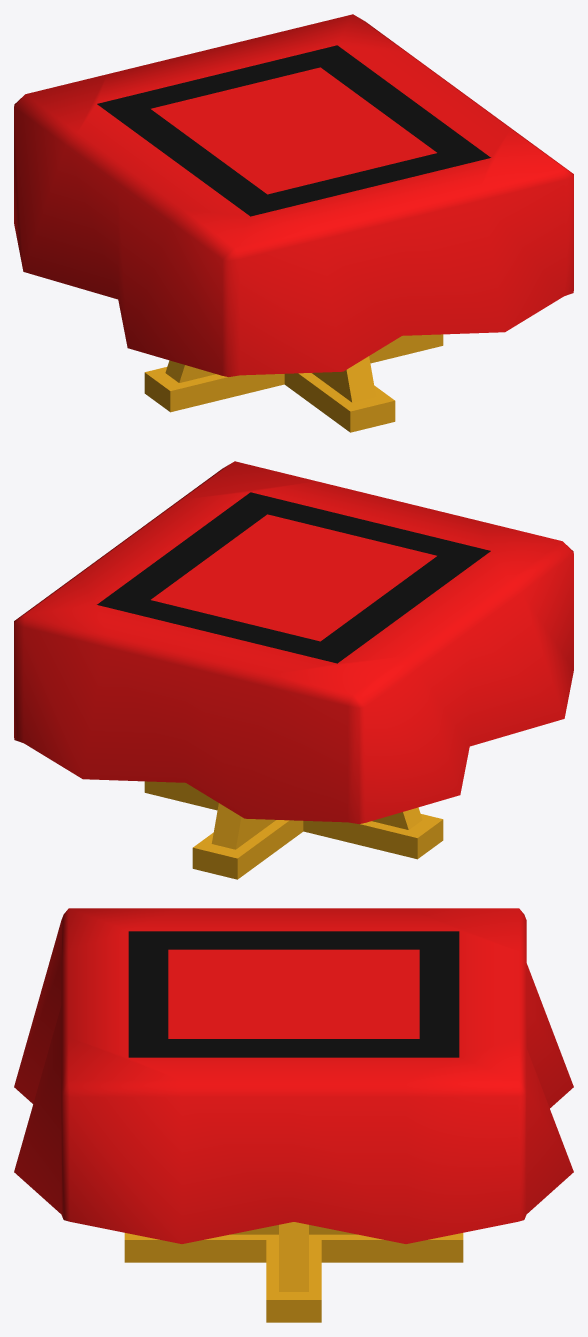
Rendered from ban vip Japanese.FBX.
The picture shows the model from 3 angles, top to bottom: view 1: azimuth 30°, elevation 25°; view 2: azimuth 150°, elevation 25°; view 3: azimuth 270°, elevation 25°; orthographic projection. The views are drawn at different scales.
Visible parts, largest first — view 1: Object281; view 2: Object281; view 3: Object281.
Boxes of the visible parts, x1,y1,x2,y2 form: Object281: (14,14,573,432); Object281: (14,461,573,879); Object281: (14,908,573,1322).
Size of the model in its own units: 2.74 by 1.43 by 2.82.
